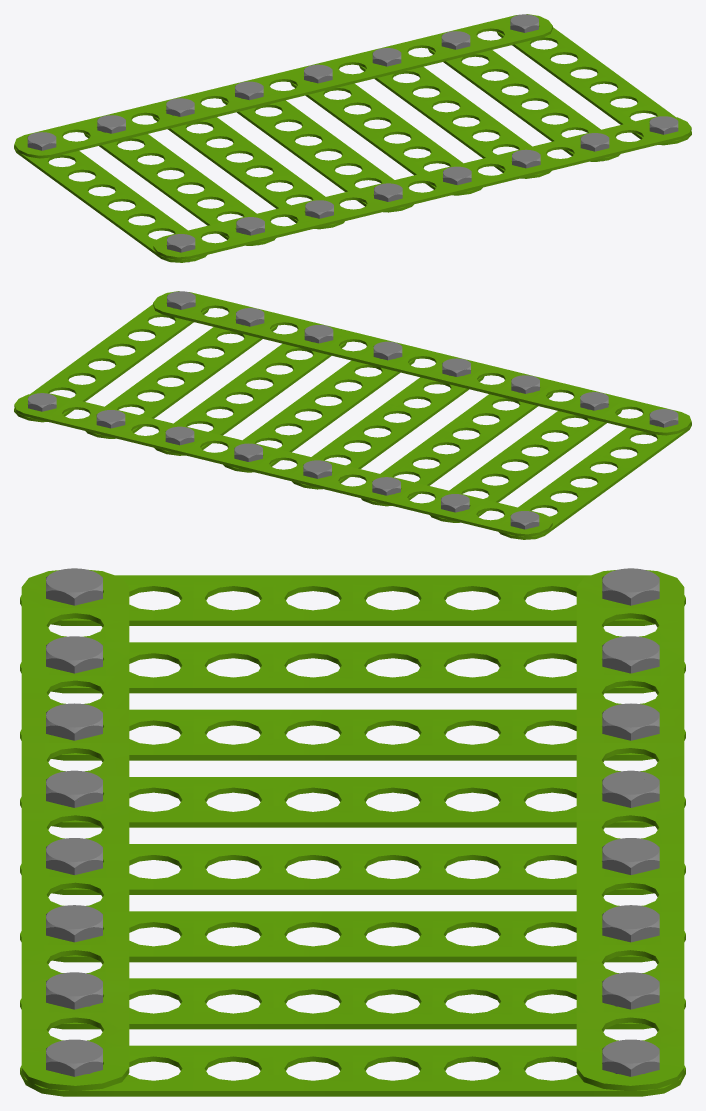
File: ConstructedPanelGreen.fbx
3 views of the same model, one above another, from view 1: azimuth 30°, elevation 25°; view 2: azimuth 150°, elevation 25°; view 3: azimuth 270°, elevation 25° (orthographic). The views are drawn at different scales.
Visible parts, largest first — view 1: Bridge, 2HighConnection; view 2: Bridge, 2HighConnection; view 3: Bridge, 2HighConnection.
Boxes of the visible parts, x1=… form: Bridge: x1=14, y1=14, x2=691, y2=262; 2HighConnection: x1=27, y1=14, x2=678, y2=262; Bridge: x1=14, y1=291, x2=691, y2=539; 2HighConnection: x1=28, y1=291, x2=678, y2=529; Bridge: x1=20, y1=569, x2=685, y2=1096; 2HighConnection: x1=46, y1=568, x2=659, y2=1095.
Size of the model in its own units: 39.25 by 1.13 by 21.36.
